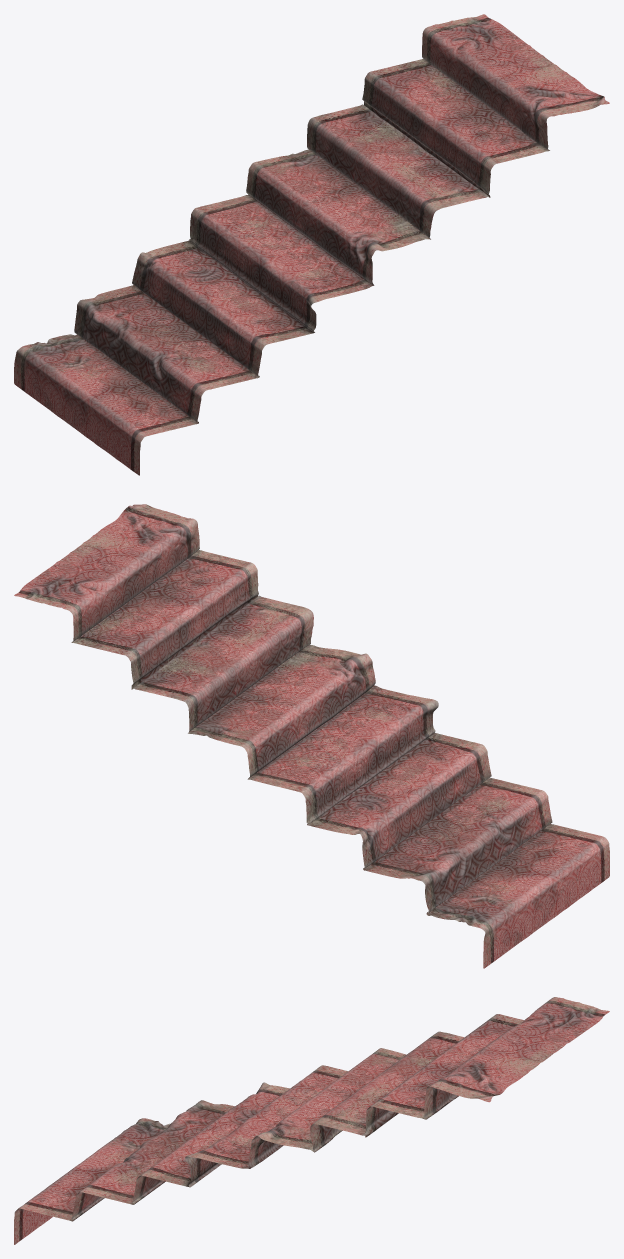
File: SM_CarpetA.fbx
The picture shows the model from 3 angles, top to bottom: view 1: azimuth 30°, elevation 25°; view 2: azimuth 150°, elevation 25°; view 3: azimuth 330°, elevation 25°; orthographic projection.
Visible parts, largest first — view 1: SM_CarpetA_LOD0; view 2: SM_CarpetA_LOD0; view 3: SM_CarpetA_LOD0.
Part boxes in pixels (box(x1,y1,x2,y2)): SM_CarpetA_LOD0: box(14, 14, 609, 475); SM_CarpetA_LOD0: box(14, 504, 609, 968); SM_CarpetA_LOD0: box(14, 997, 609, 1244).
Bounding box in the file's own units: 270 × 126 × 141.
1 material, 1 textured.
